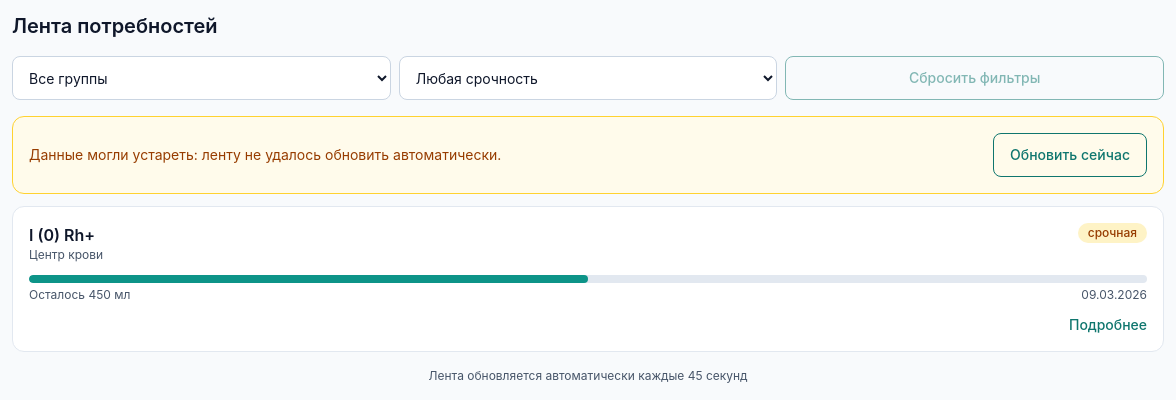
Test: FeedPage — сбой автообновления (FR-3.3, матрица ошибок ТЗ) › показывает плашку «Данные устарели» и «Обновить сейчас», сохраняя данные
Expected: the text "Данные могли устареть" is shown, [29, 146, 501, 163]
Expected: the text "I (0) Rh+" is shown, [29, 223, 103, 247]
What coordinates should you click on to do the following:
click the button "Обновить сейчас"
I would click on:
 (1070, 155)
Its box is [993, 133, 1147, 177].
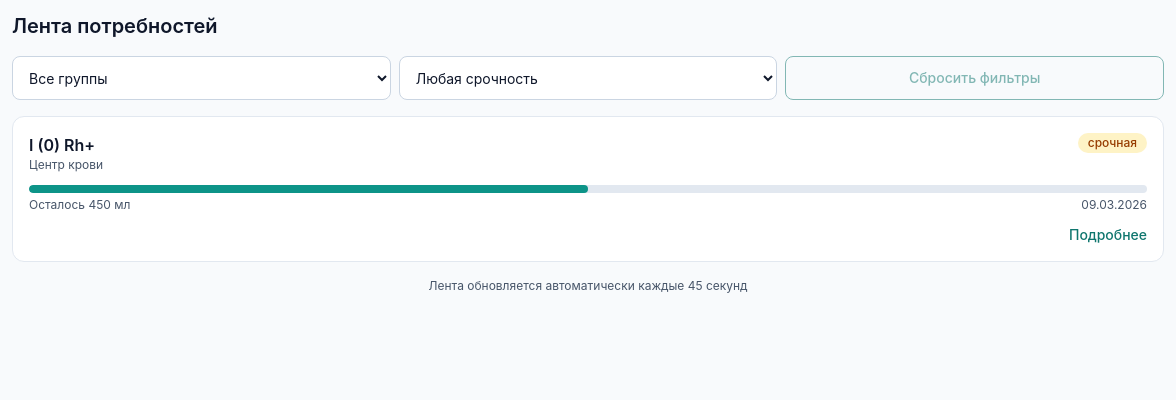
Now the text "Данные могли устареть" is gone
